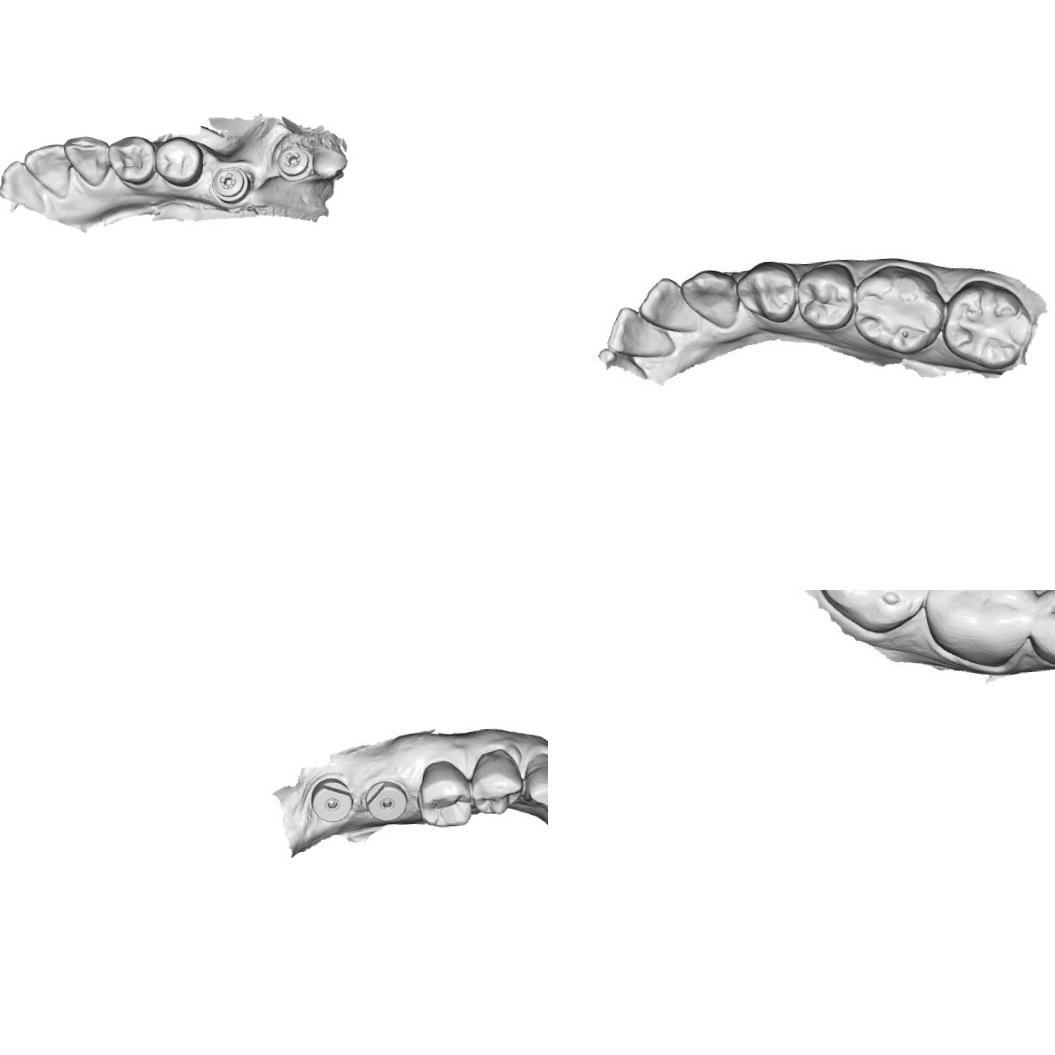canine: (681, 266, 742, 331), (62, 133, 112, 189), (519, 751, 548, 813)
implant: (306, 773, 355, 826), (360, 776, 410, 824)
implant_plus: (206, 163, 254, 206), (272, 142, 316, 182)
incisor: (603, 301, 676, 362), (634, 271, 695, 340), (0, 157, 50, 218), (22, 141, 72, 201)
molar: (920, 590, 1036, 667), (852, 263, 944, 356), (941, 276, 1028, 370), (810, 590, 942, 635)
premolar: (797, 259, 859, 336), (414, 757, 476, 830), (467, 746, 527, 818), (733, 260, 800, 322), (151, 133, 205, 190), (105, 133, 158, 186), (1025, 590, 1055, 662)
